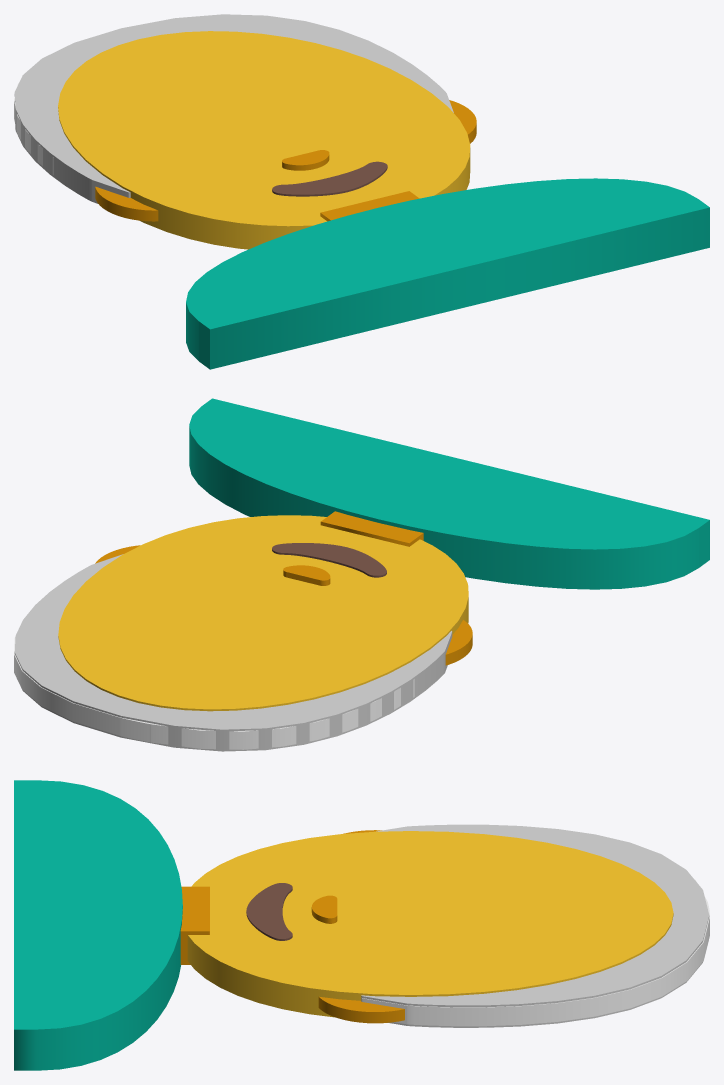
File: emoji_u1f468_200d_1f9b3.glb
3 views of the same model, one above another, from view 1: azimuth 30°, elevation 25°; view 2: azimuth 150°, elevation 25°; view 3: azimuth 270°, elevation 25° (orthographic). The views are drawn at different scales.
Visible parts, largest first — view 1: emoji_u1f468_200d_1f9b3; view 2: emoji_u1f468_200d_1f9b3; view 3: emoji_u1f468_200d_1f9b3.
Part boxes in pixels (left/top/right/bottom): emoji_u1f468_200d_1f9b3: left=14, top=14, right=709, bottom=369; emoji_u1f468_200d_1f9b3: left=14, top=398, right=709, bottom=751; emoji_u1f468_200d_1f9b3: left=14, top=780, right=709, bottom=1070.
Size of the model in its own units: 0.0286 by 0.0022 by 0.0337.
